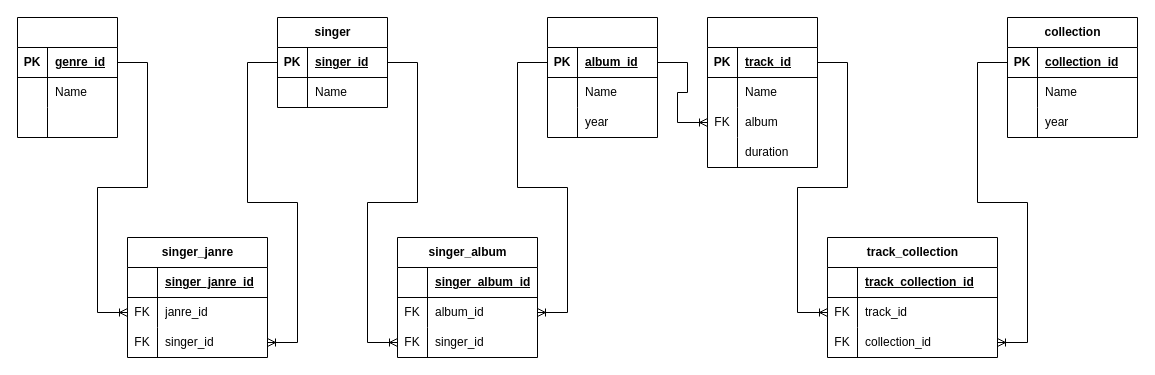
This 1155x375 diagram has some shape labels left out. Each missing label, with the box of its shape:
albums: (546, 16, 658, 138)
jenre: (16, 16, 118, 138)
tracks: (706, 16, 818, 168)
